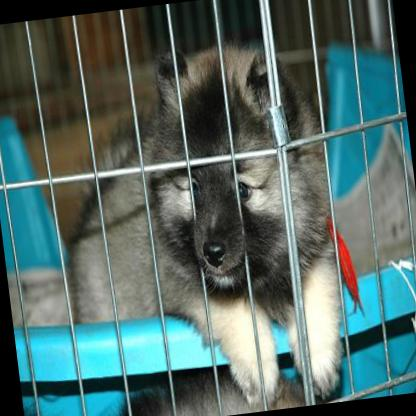keeshond: (42, 31, 351, 416)
